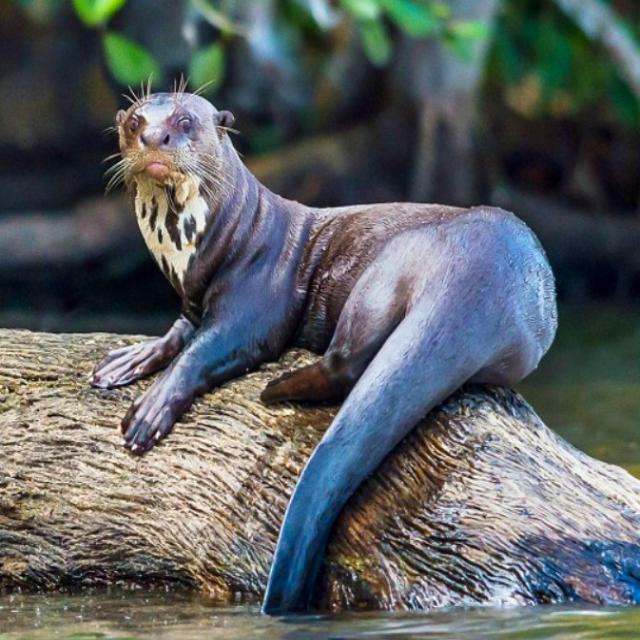otter: (91, 93, 556, 607)
